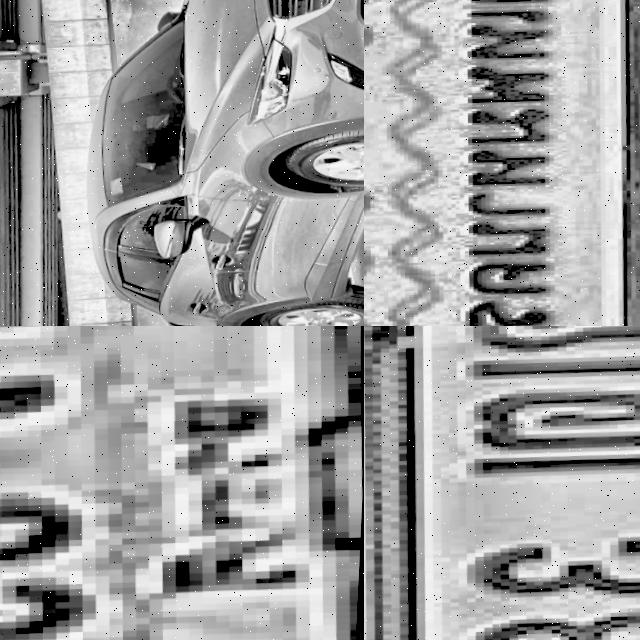license-plate: (0, 326, 364, 640), (364, 0, 640, 326), (364, 326, 640, 640)
